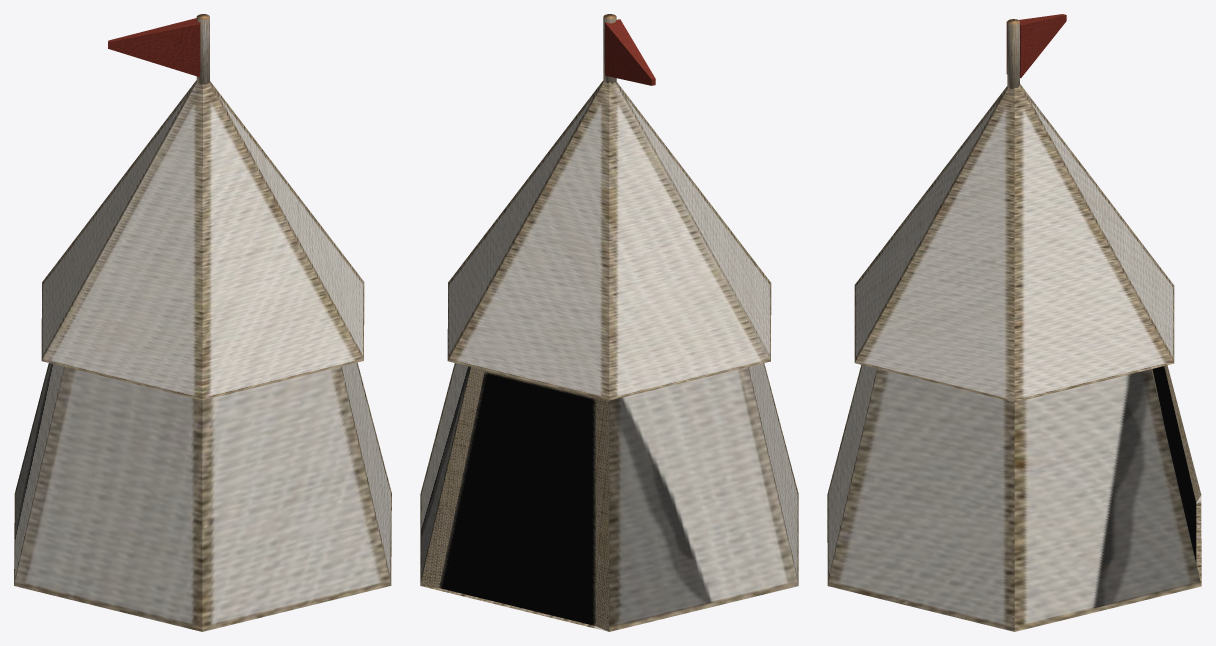
The model's file is tentSpawner.fbx.
3 renders of one model, left to right at view 1: azimuth 30°, elevation 25°; view 2: azimuth 150°, elevation 25°; view 3: azimuth 270°, elevation 25°, orthographic.
Visible parts, largest first — view 1: polySurface370; view 2: polySurface370; view 3: polySurface370.
Part boxes in pixels (<box>): polySurface370: <box>14,14,391,631</box>; polySurface370: <box>420,14,798,631</box>; polySurface370: <box>827,14,1201,631</box>.
Bounding box in the file's own units: 5.64 × 7.49 × 4.87.
5 materials, 4 textured.
